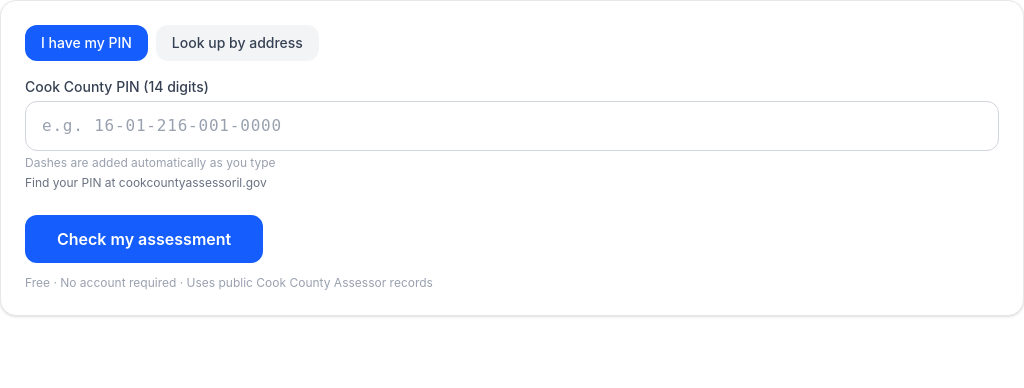
it: free-check funnel across both surfaces › /check page › sends no completion when the records service is unavailable
This screenshot has width=1024, height=388.
In the field labelled "Cook County PIN (14 digits)": (512, 126) left=25, top=101, right=999, bottom=151, type "16012160010000"
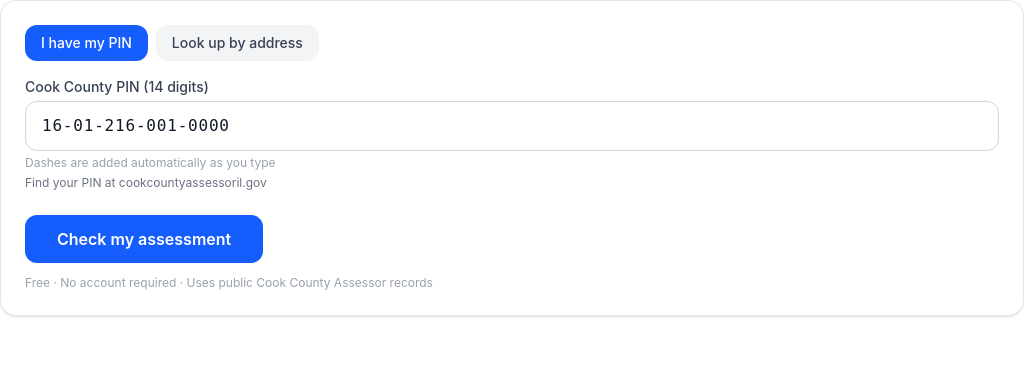
Click the button "Check my assessment": (144, 239) left=25, top=215, right=263, bottom=263
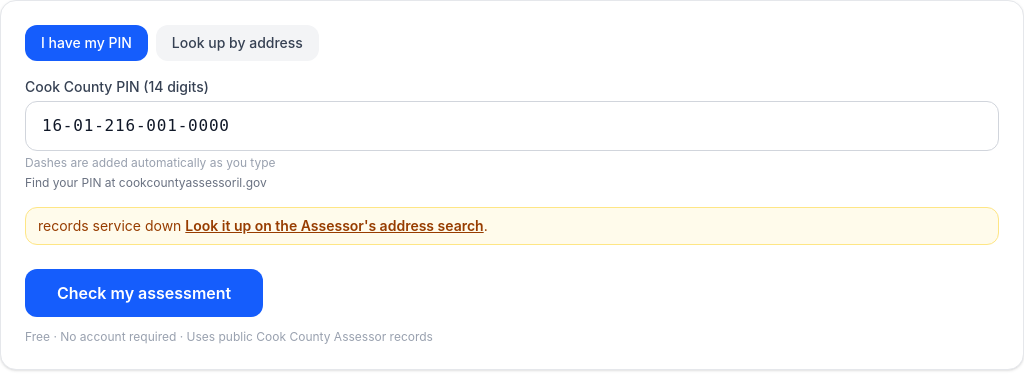
Now the message "records service down Look it up on the Assessor's address search ." is shown, box left=25, top=207, right=999, bottom=245
